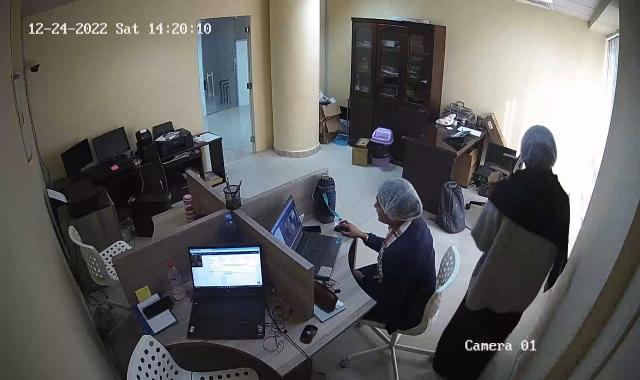hairnet: (376, 175, 419, 223), (522, 123, 560, 173)
